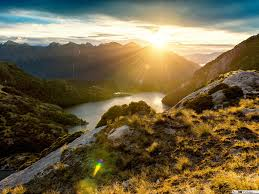mountain: (9, 43, 256, 191)
sky: (2, 3, 254, 42)
